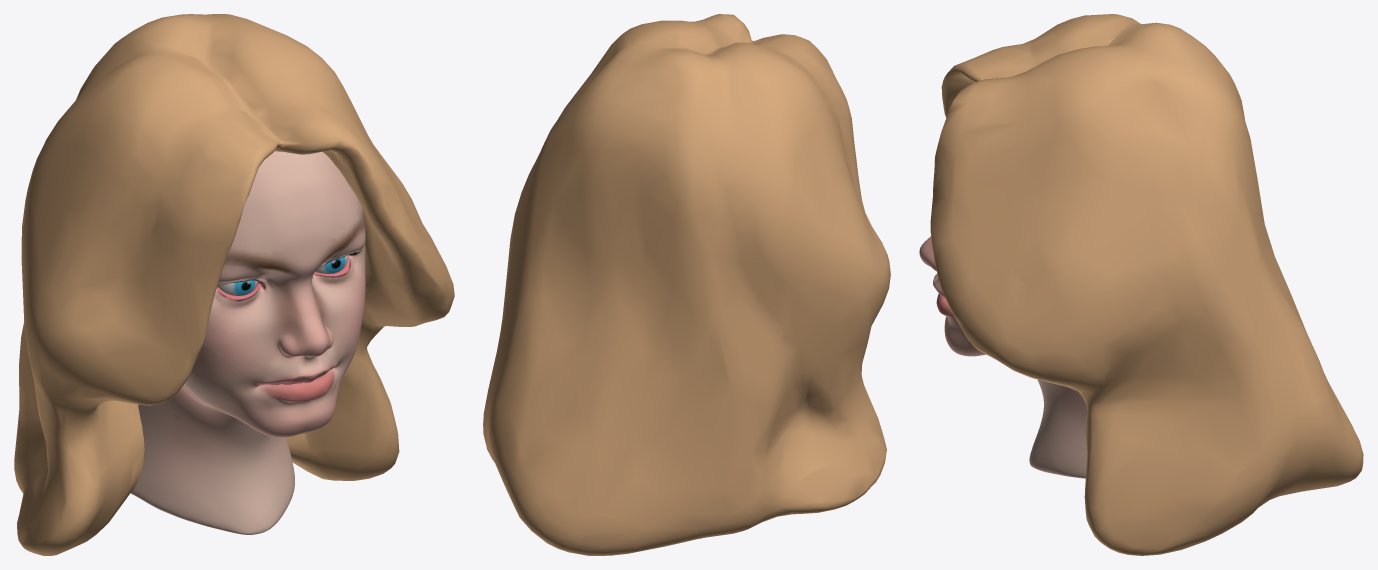
The picture shows the model from 3 angles, left to right: view 1: azimuth 30°, elevation 25°; view 2: azimuth 150°, elevation 25°; view 3: azimuth 270°, elevation 25°; orthographic projection. The views are drawn at different scales.
Visible parts, largest first — view 1: Hair, Female Head 3D Sculpt, Nose, Contour Upper, Blush Left, Lips, Contour Left, Eyes, Eyebrow Left; view 2: Hair; view 3: Hair, Female Head 3D Sculpt.
Part boxes in pixels (x1,y1,x2,y2): Hair: [14, 14, 454, 555]; Female Head 3D Sculpt: [130, 151, 365, 534]; Nose: [279, 272, 333, 358]; Contour Upper: [246, 159, 355, 200]; Blush Left: [202, 323, 264, 362]; Lips: [259, 366, 335, 401]; Contour Left: [195, 345, 260, 374]; Eyes: [218, 255, 348, 295]; Eyebrow Left: [224, 254, 293, 272]; Hair: [483, 14, 890, 555]; Hair: [930, 14, 1363, 555]; Female Head 3D Sculpt: [933, 273, 1087, 478].
Size of the model in its own units: 0.2296 by 0.2852 by 0.2537.
